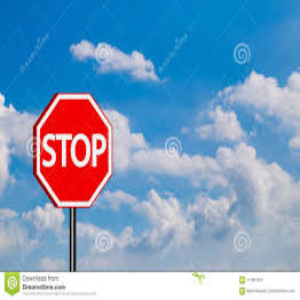STOP_SIGN: (33, 93, 112, 208)
